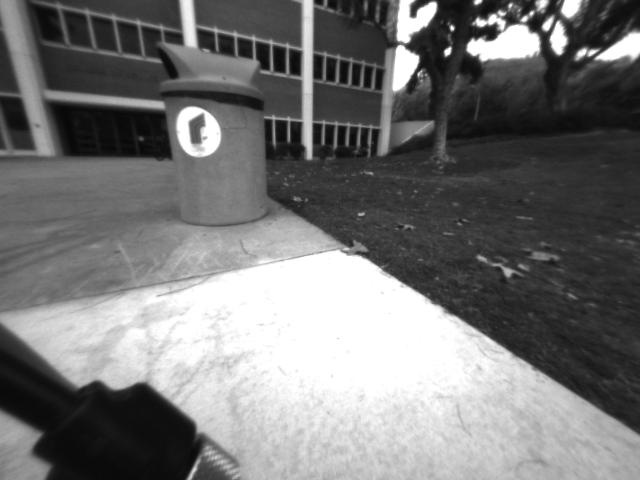trashcan: (149, 38, 280, 229)
